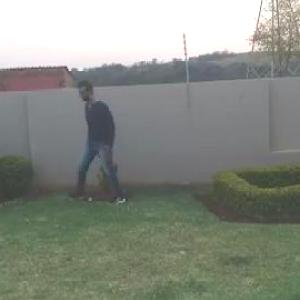follow: (85, 79, 124, 203)
